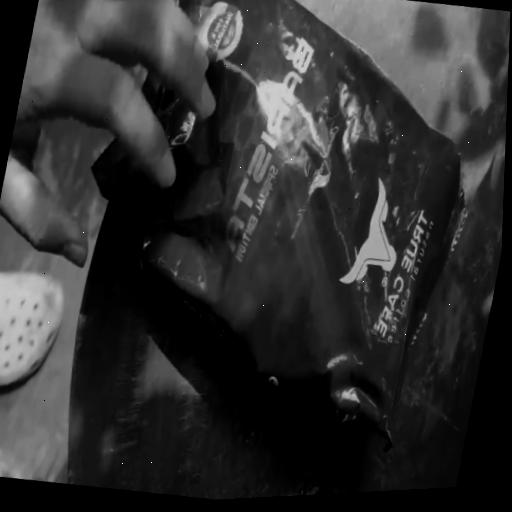cafe_hat: (92, 0, 464, 448)
